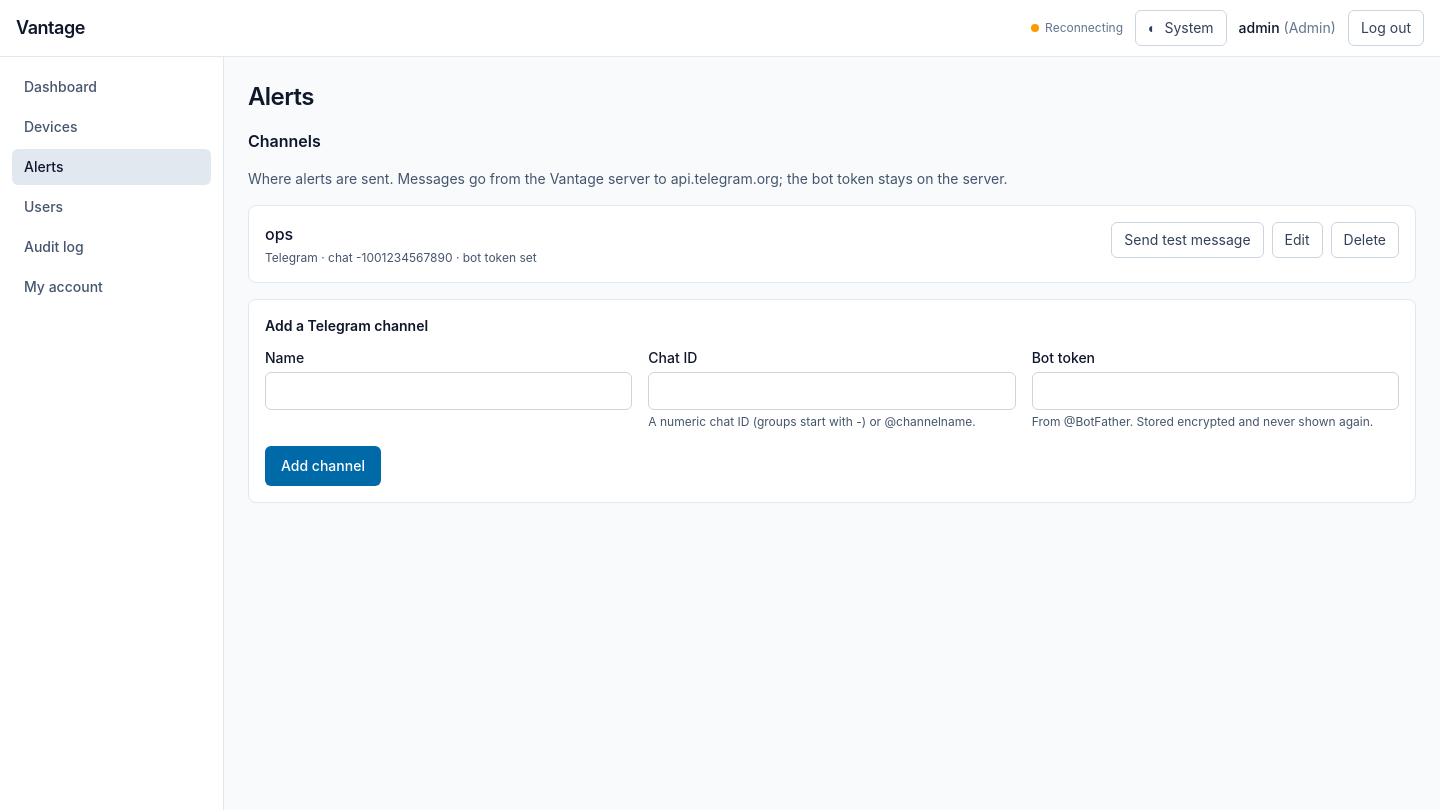
Scenario: alerts page: channels › sends a test message and shows a failure
Click the button with aria-label "Send a test message to ops" at (1187, 240), box x1=1111 y1=222 x2=1264 y2=258
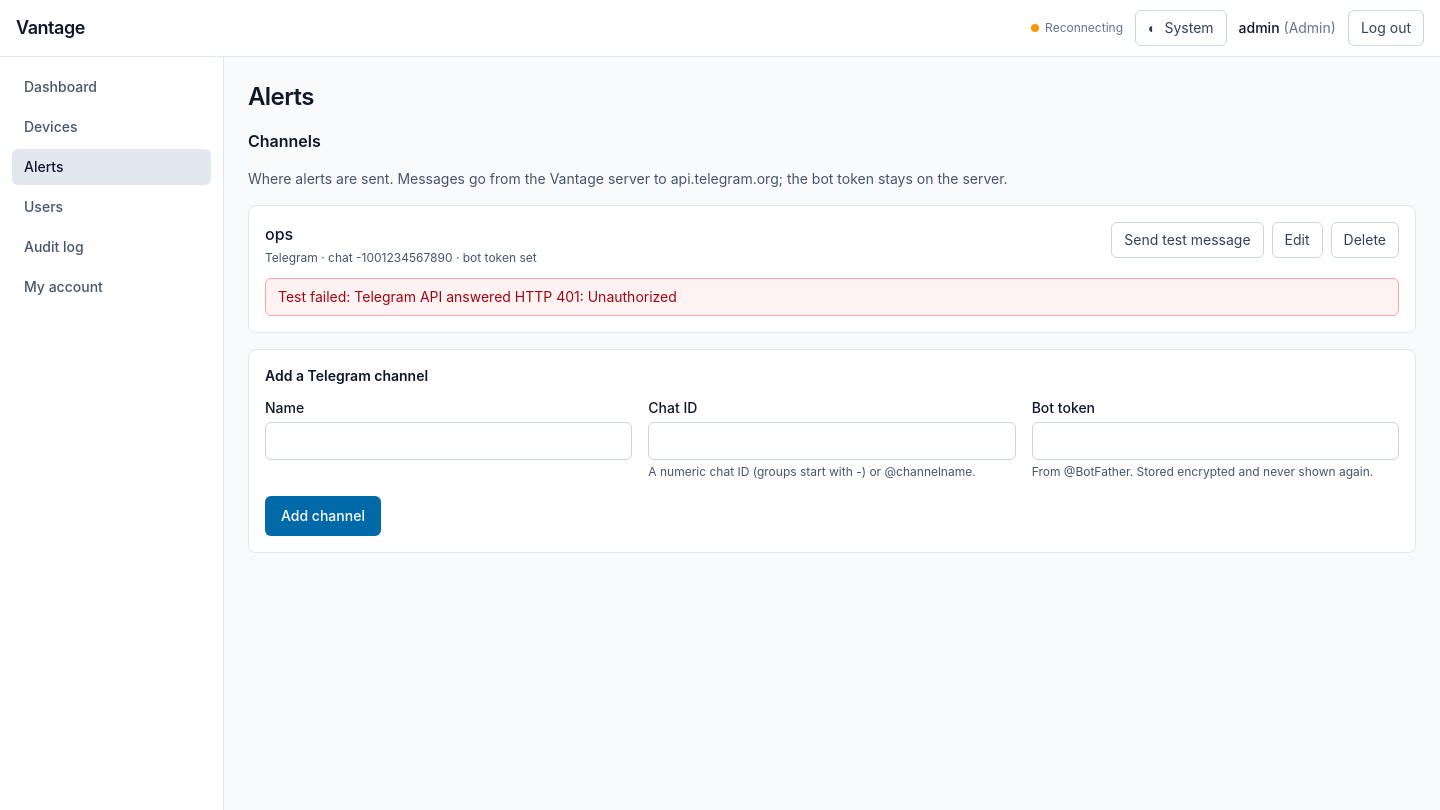
Now the text "Test failed: Telegram API answered HTTP 401: Unauthorized" is shown, box x1=265 y1=278 x2=1399 y2=316
